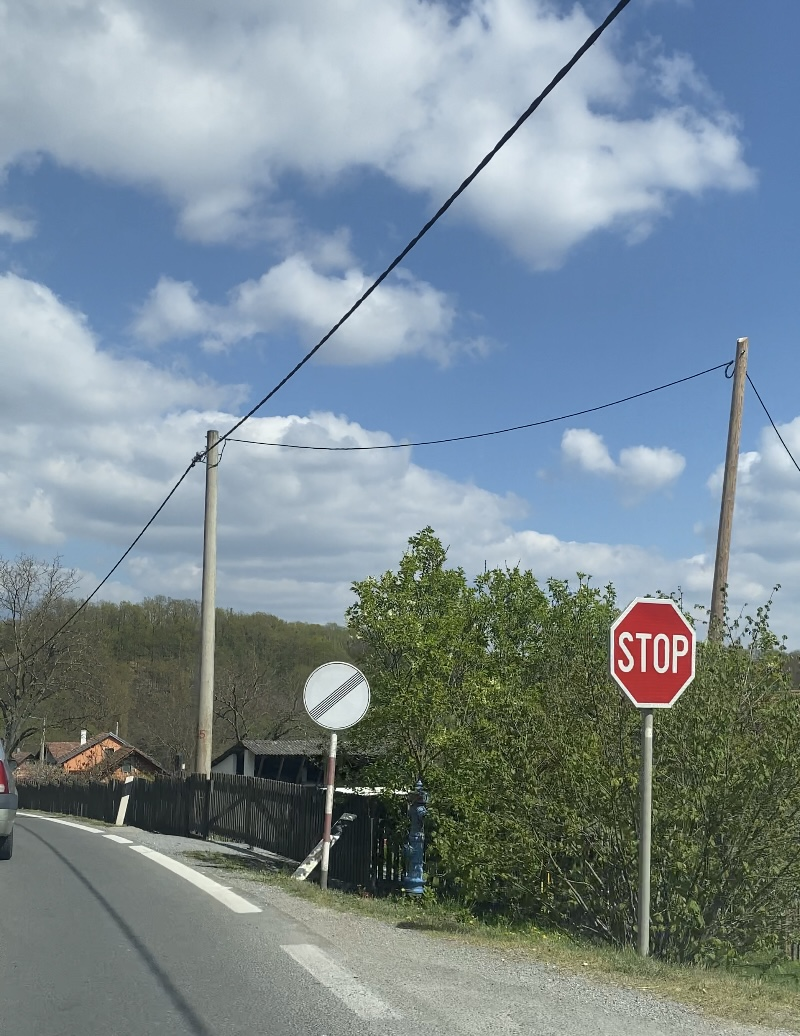Obavezno zaustavljanje: (610, 597, 695, 708)
